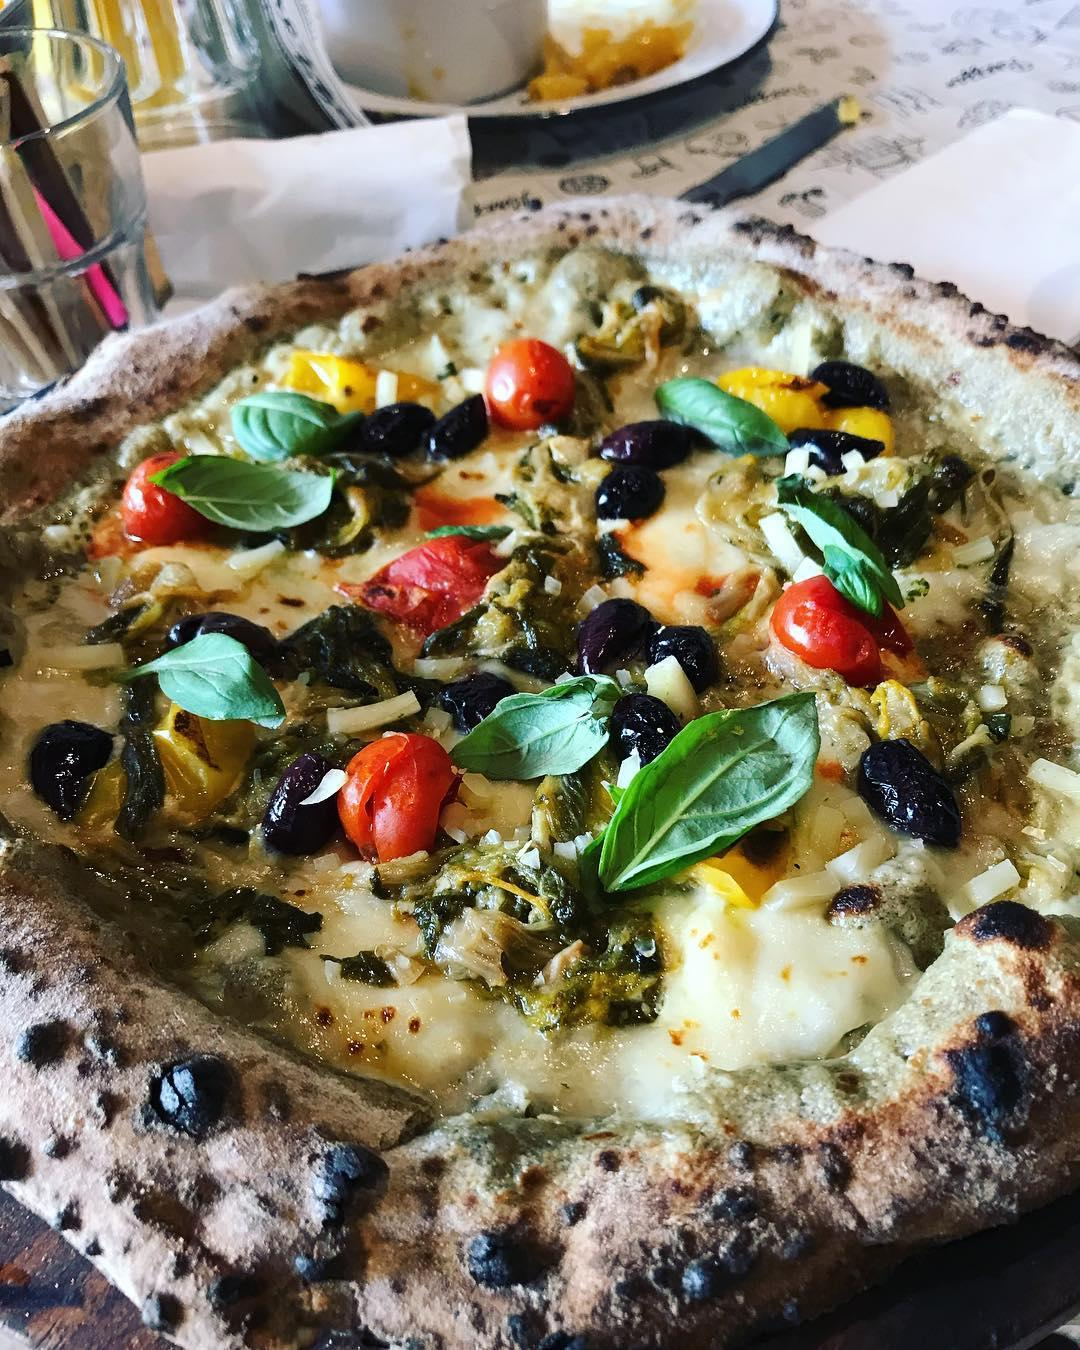Basil: (592, 682, 819, 906), (93, 627, 294, 735), (431, 670, 626, 779), (760, 490, 911, 618), (143, 450, 339, 536), (651, 379, 802, 465), (228, 387, 355, 460)
Olives: (851, 736, 973, 855), (15, 706, 118, 816), (252, 746, 359, 850), (278, 593, 388, 681), (377, 665, 521, 717), (163, 605, 276, 670), (799, 358, 906, 417), (655, 606, 725, 694), (587, 588, 659, 671), (349, 398, 439, 464), (606, 691, 682, 764), (789, 417, 885, 473), (577, 419, 699, 463), (587, 457, 670, 517), (440, 388, 507, 455), (413, 601, 498, 652), (505, 633, 583, 683), (590, 526, 638, 579)
Peppers: (72, 696, 252, 845), (703, 357, 904, 454), (268, 342, 451, 418), (695, 806, 803, 908)
Pizza: (0, 198, 1080, 1350)
Tomatoes: (328, 726, 457, 867), (342, 532, 514, 630), (764, 576, 900, 677), (480, 332, 588, 443), (121, 441, 209, 550)
